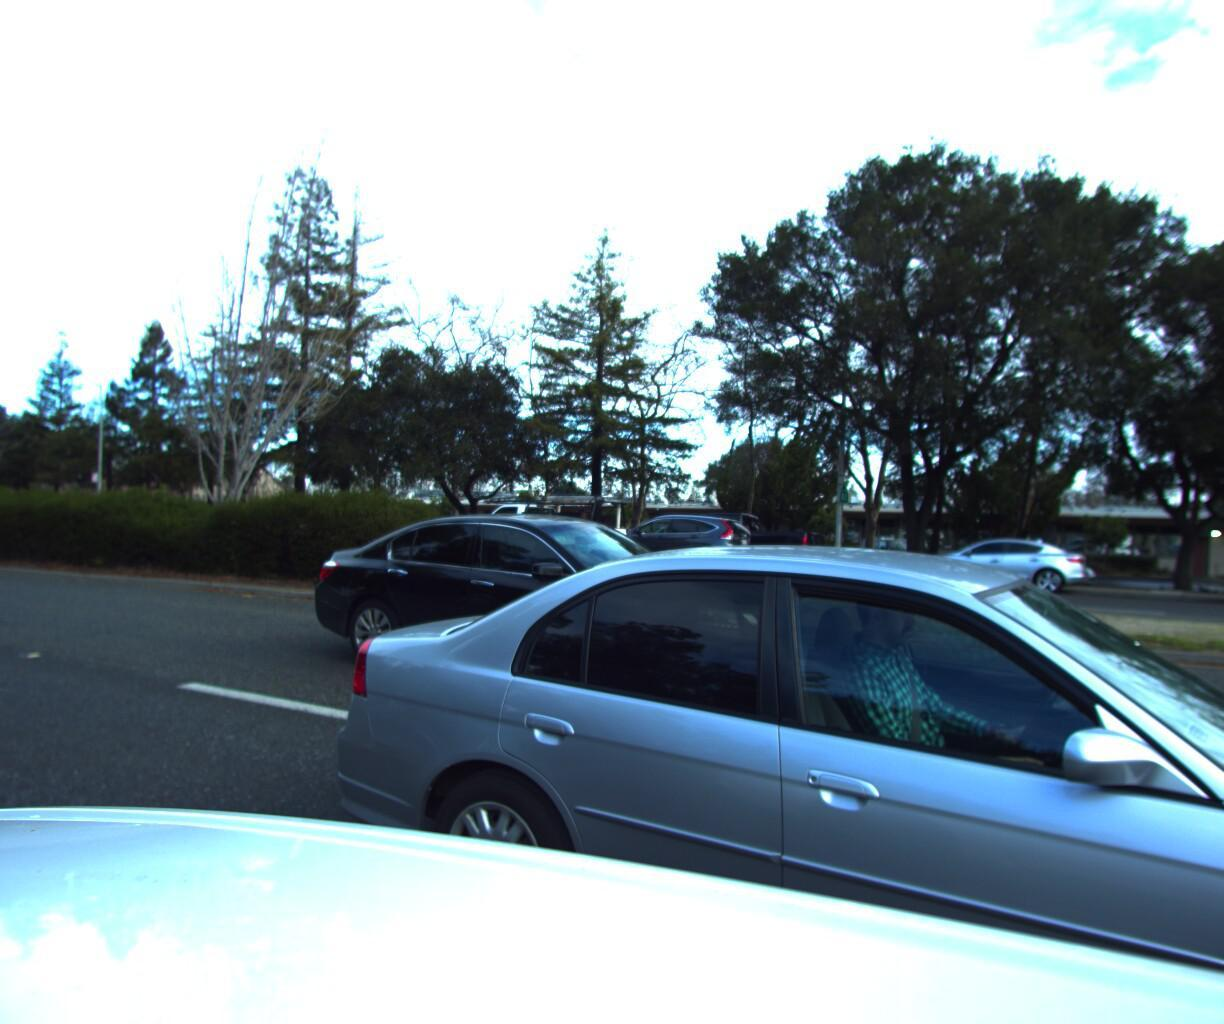car: (280, 528, 1224, 1024), (296, 499, 802, 719), (631, 502, 832, 575), (431, 498, 620, 573), (894, 527, 1089, 592), (583, 508, 761, 575), (1220, 536, 1224, 617)
